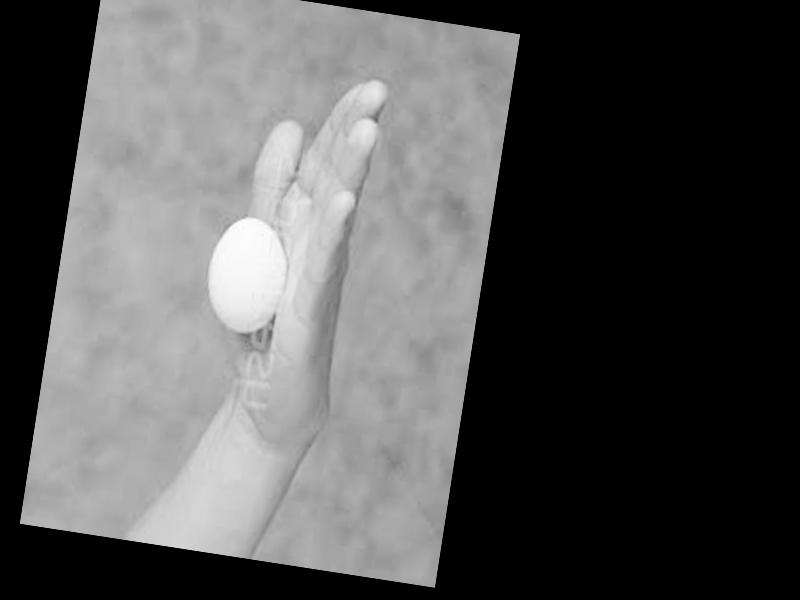Eggs: (198, 212, 294, 338)
